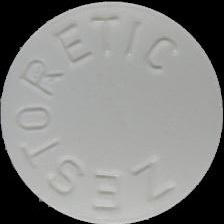0310-0142: (0, 0, 224, 224)
